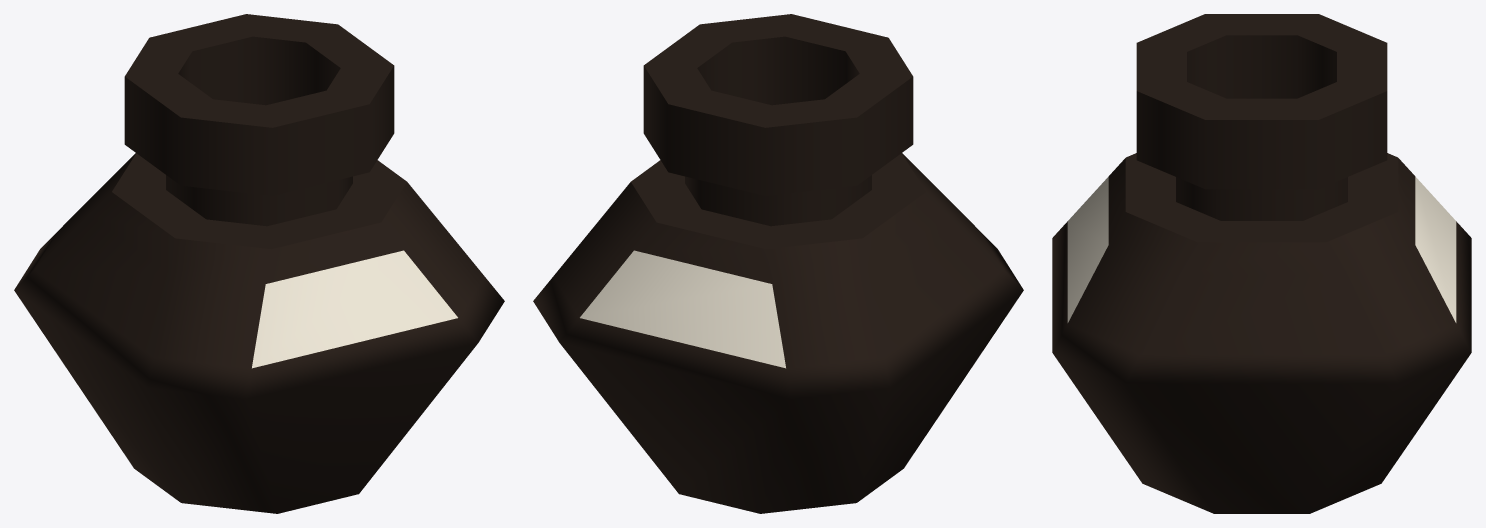
File: Ink.fbx
The picture shows the model from 3 angles, left to right: view 1: azimuth 30°, elevation 25°; view 2: azimuth 150°, elevation 25°; view 3: azimuth 270°, elevation 25°; orthographic projection.
Visible parts, largest first — view 1: Ink; view 2: Ink; view 3: Ink.
Boxes of the visible parts, left/top/right/bottom form: Ink: left=14, top=14, right=504, bottom=513; Ink: left=533, top=14, right=1023, bottom=513; Ink: left=1052, top=14, right=1471, bottom=513.
Bounding box in the file's own units: 13.02 × 13.6 × 13.02.
